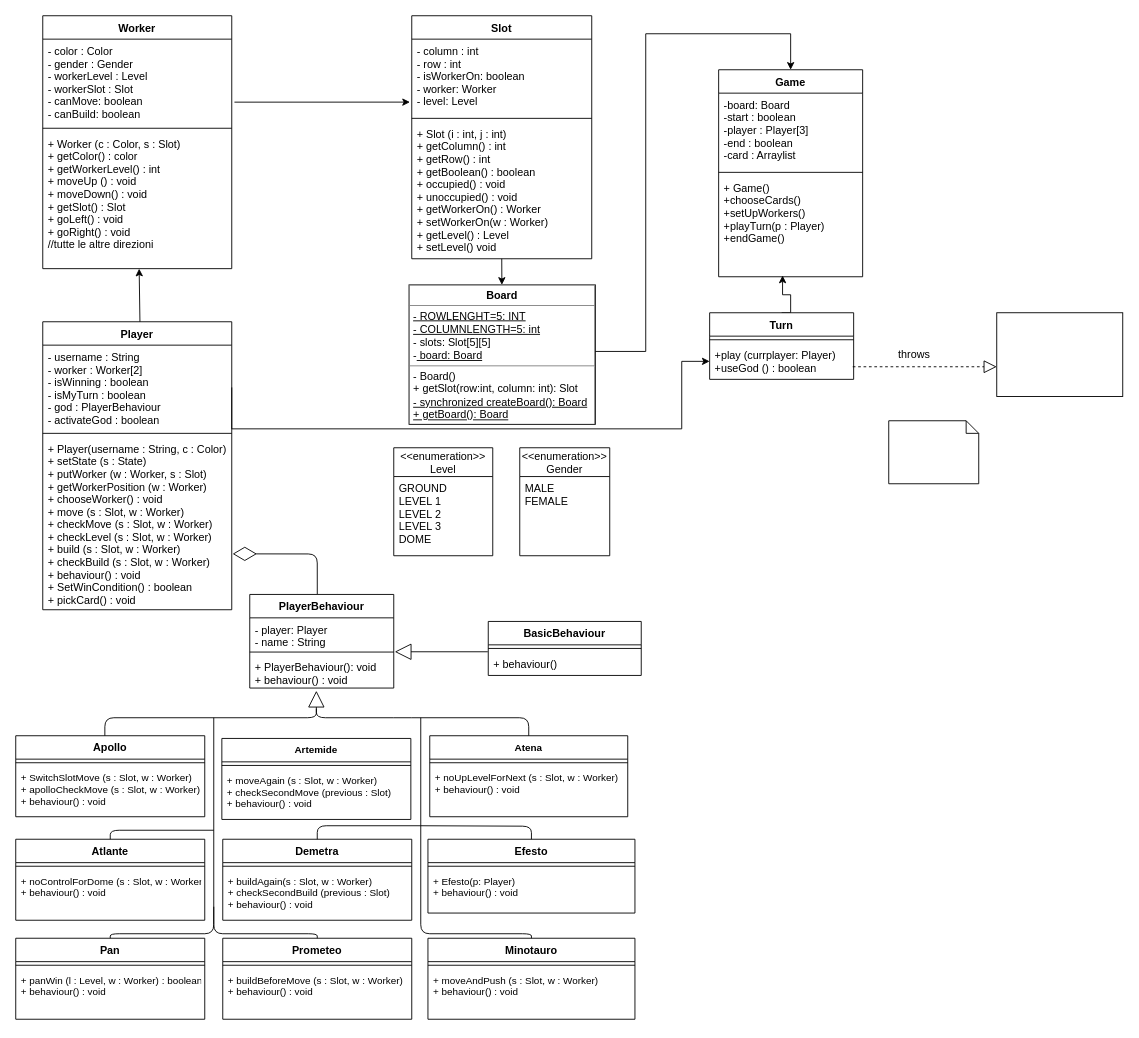
This 1139x1038 diagram has some shape labels left out. Here are the shapes that lost their labels. From the top down, the centre of each, then its label:
(x=1059, y=354): TurnException model.exception +noUpLevel()
(x=933, y=452): turn si o no?
